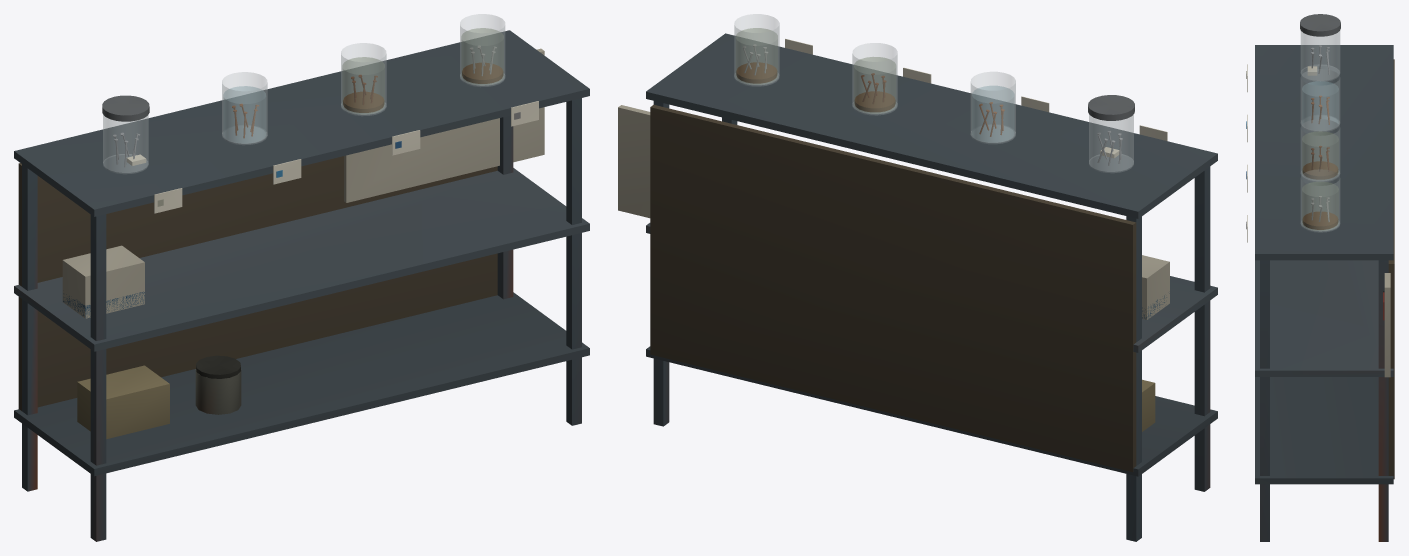
The model's file is nail-jars.glb.
The picture shows the model from 3 angles, left to right: view 1: azimuth 30°, elevation 25°; view 2: azimuth 150°, elevation 25°; view 3: azimuth 270°, elevation 25°; orthographic projection. The views are drawn at different scales.
Visible parts, largest first — view 1: shelf, jar-dry, jar-fresh, jar-salt, jar-zinc; view 2: shelf, jar-dry, jar-salt, jar-fresh, jar-zinc; view 3: shelf, jar-dry, jar-zinc, jar-salt, jar-fresh.
Boxes of the visible parts, box(x1,y1,x2,y2) form: shelf: box(14, 30, 589, 541); jar-dry: box(102, 95, 182, 213); jar-fresh: box(222, 72, 301, 184); jar-salt: box(341, 43, 420, 155); jar-zinc: box(460, 14, 538, 126); shelf: box(618, 33, 1217, 541); jar-dry: box(1088, 95, 1167, 172); jar-salt: box(852, 43, 931, 115); jar-fresh: box(970, 72, 1049, 143); jar-zinc: box(734, 14, 812, 86); shelf: box(1255, 45, 1394, 541); jar-dry: box(1246, 14, 1340, 92); jar-zinc: box(1246, 169, 1340, 242); jar-salt: box(1246, 119, 1340, 192); jar-fresh: box(1246, 69, 1340, 142).
Bounding box in the file's own units: 2.65 × 1.9 × 0.7495.
